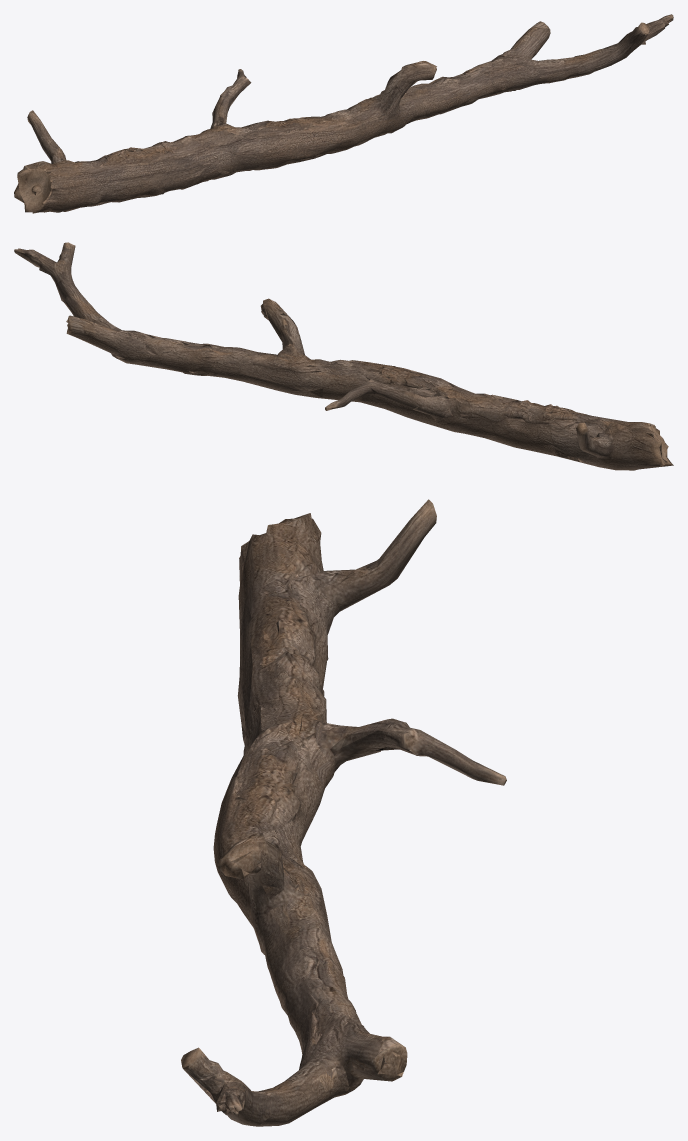
File: Branch_002.fbx
3 views of the same model, one above another, from view 1: azimuth 30°, elevation 25°; view 2: azimuth 150°, elevation 25°; view 3: azimuth 270°, elevation 25° (orthographic). The views are drawn at different scales.
Parts seen in each view (by area): view 1: output_unwrapped; view 2: output_unwrapped; view 3: output_unwrapped.
Boxes of the visible parts, bbox=[...] form: output_unwrapped: bbox=[14, 14, 673, 213]; output_unwrapped: bbox=[14, 242, 673, 470]; output_unwrapped: bbox=[181, 499, 506, 1126].
Bounding box in the file's own units: 190 × 21.49 × 41.84.
Materials: 1 (1 with a texture image).
